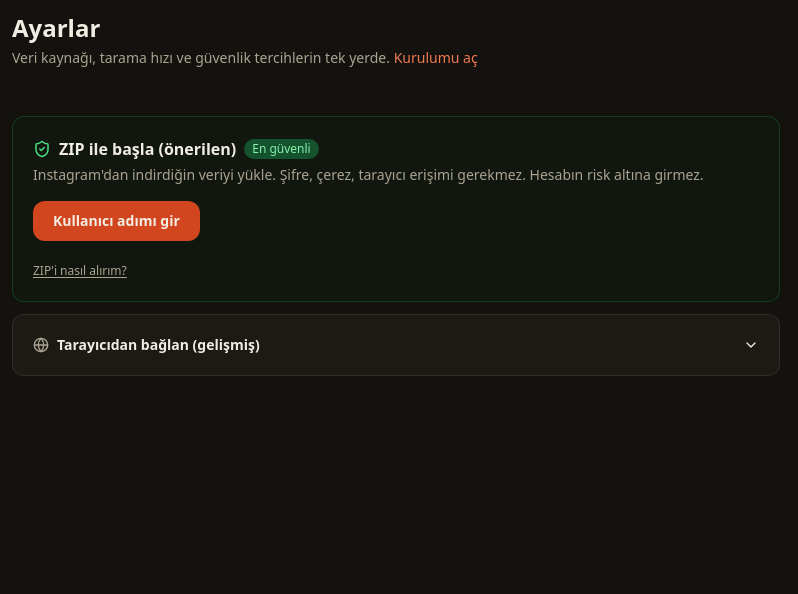
Test: SessionPage — browser flow needs explicit consent › tells the user how to start the connector when it is off
The width and height of the screenshot is (798, 594).
Click the button "Tarayıcıdan bağlan (gelişmiş)" at (158, 344), box [13,315,779,375]
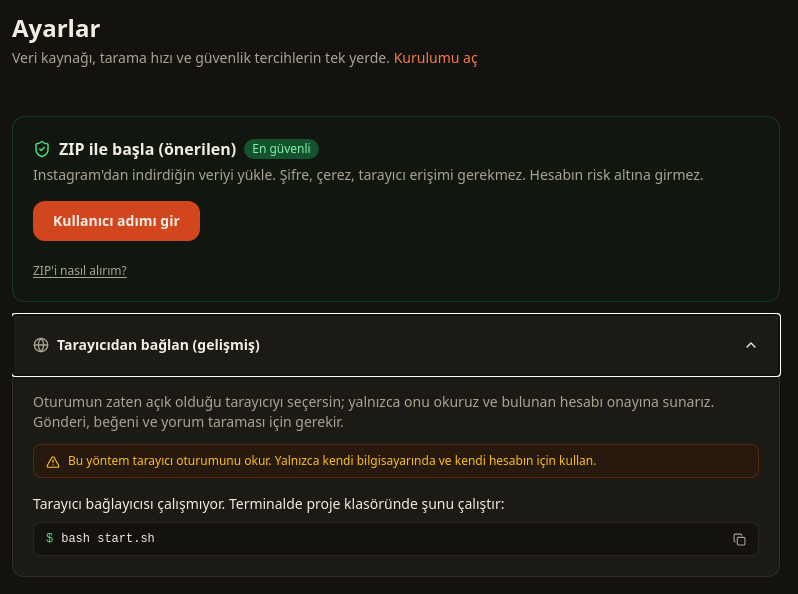
expect the text "bağlayıcısı çalışmıyor" is shown: met, box [33,494,504,513]
expect the text "bash start.sh" is shown: met, box [61,532,155,546]
